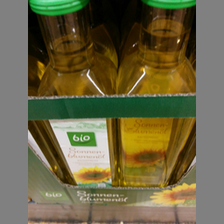oil: (28, 1, 116, 186), (115, 1, 197, 188)
